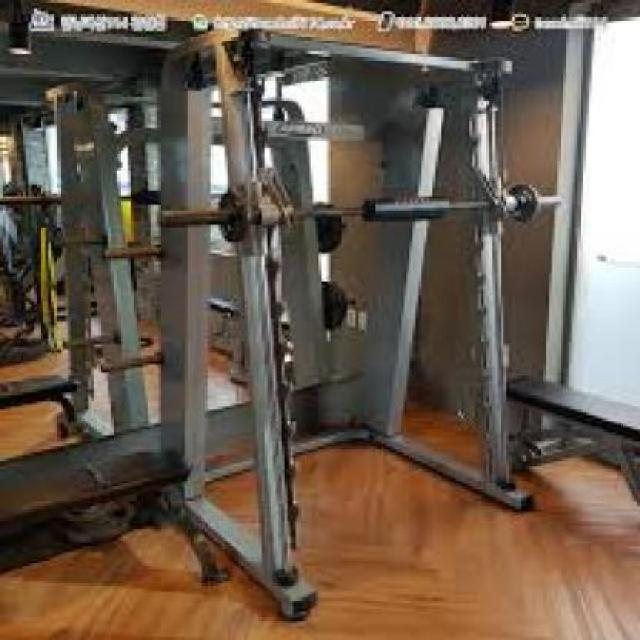smith machine: (160, 34, 562, 621)
